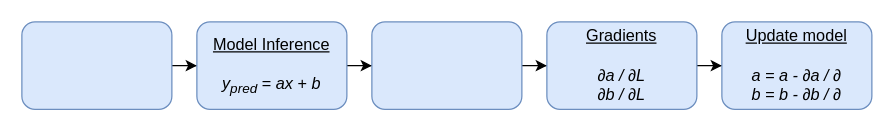
This 894x131 diagram has some shape labels left out. Here are the shapes that lost their labels. From the top down, the centre of each, then its label:
At point 96,65: "Input ( x, y true )".
At point 446,65: "Loss L = ( y pred - y true ) 2".
